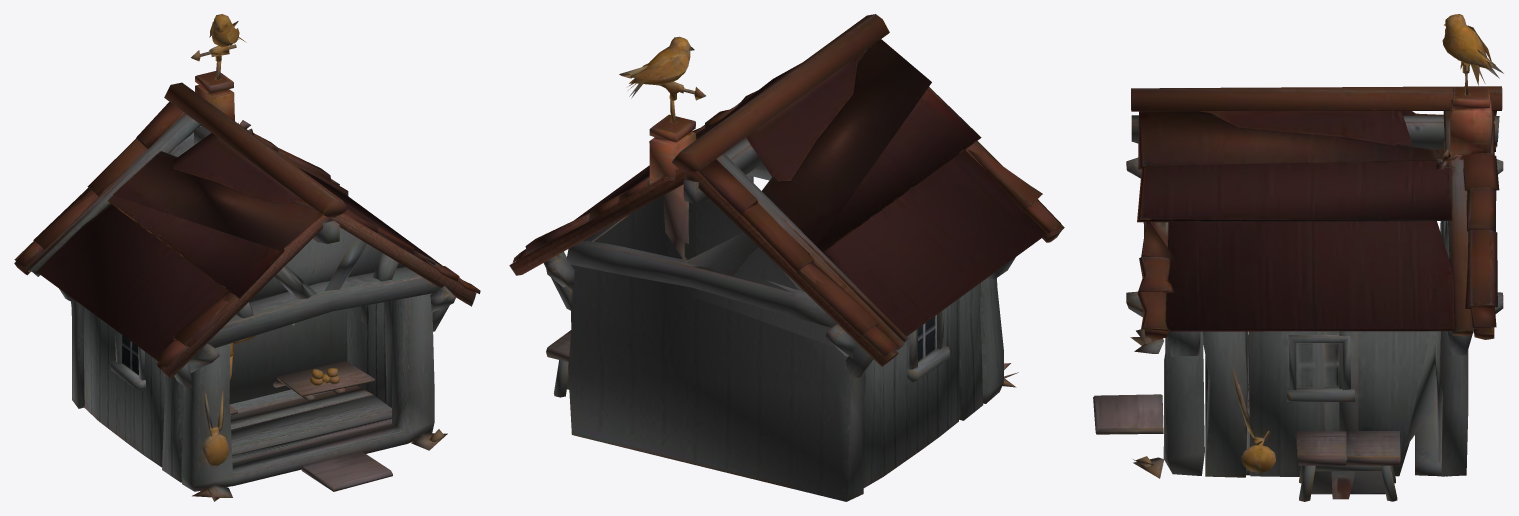
Rendered from mews.glb.
3 views of the same model, side by side, from view 1: azimuth 30°, elevation 25°; view 2: azimuth 150°, elevation 25°; view 3: azimuth 270°, elevation 25° (orthographic). The views are drawn at different scales.
Bounding box in the file's own units: 0.9312 × 0.9556 × 0.8613.
1 material, 1 textured.
